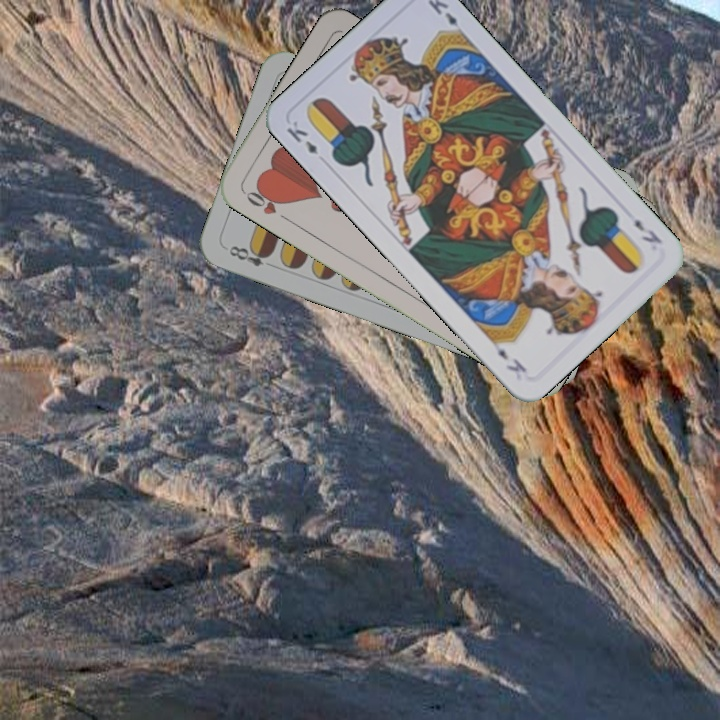E8: (225, 241, 274, 269)
EK: (282, 116, 321, 158), (630, 214, 665, 247)
HO: (240, 182, 293, 225)
